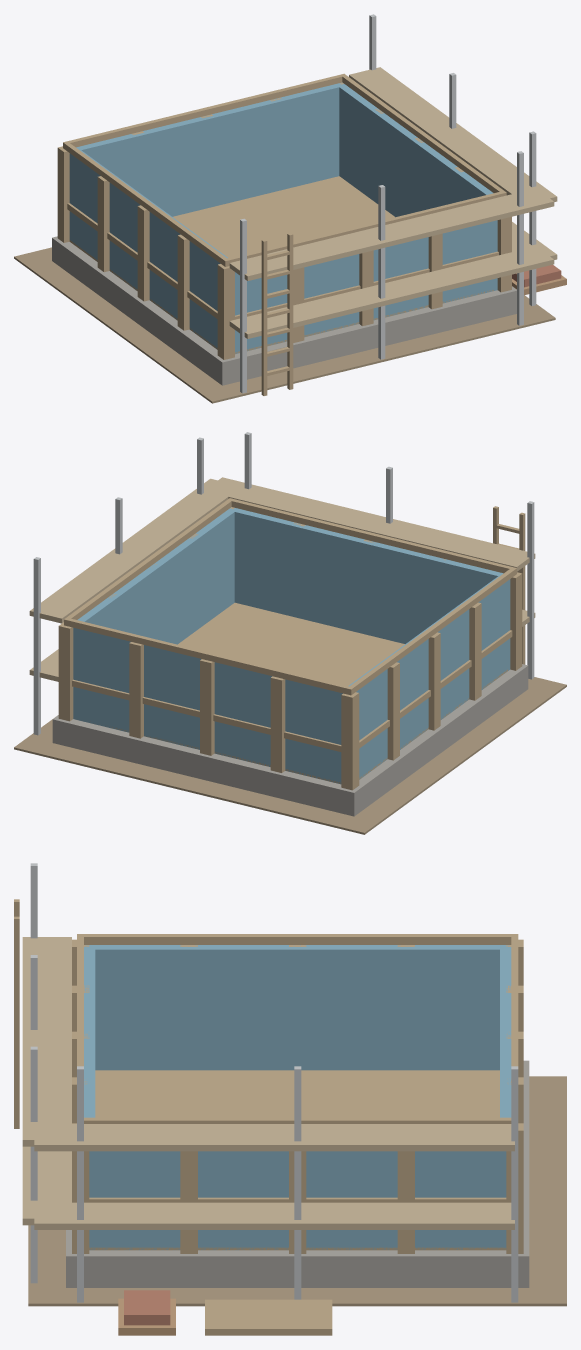
File: duck_pond_site_9.glb
3 renders of one model, top to bottom at view 1: azimuth 30°, elevation 25°; view 2: azimuth 150°, elevation 25°; view 3: azimuth 270°, elevation 25°, orthographic. The views are drawn at different scales.
Visible parts, largest first — view 1: body; view 2: body; view 3: body.
Part boxes in pixels (x1,y1,x2,y2): body: (14, 14, 566, 403); body: (14, 432, 566, 834); body: (14, 863, 566, 1335).
Size of the model in its own units: 2.1 by 0.9 by 1.91.
